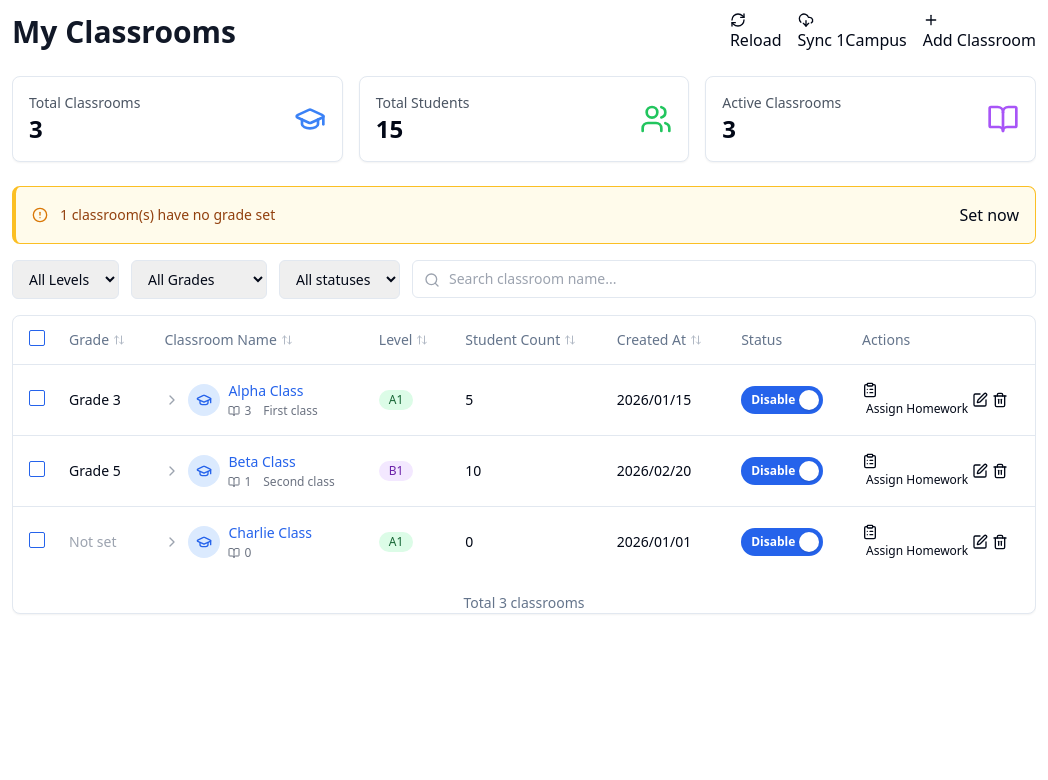
Test: TeacherClassrooms › Classroom Grade (#1097) › narrows the list with the grade filter
The image size is (1048, 780).
Select "Grade 3" in the dropdown named "Filter by grade" at (199, 280), box x1=131 y1=260 x2=267 y2=299
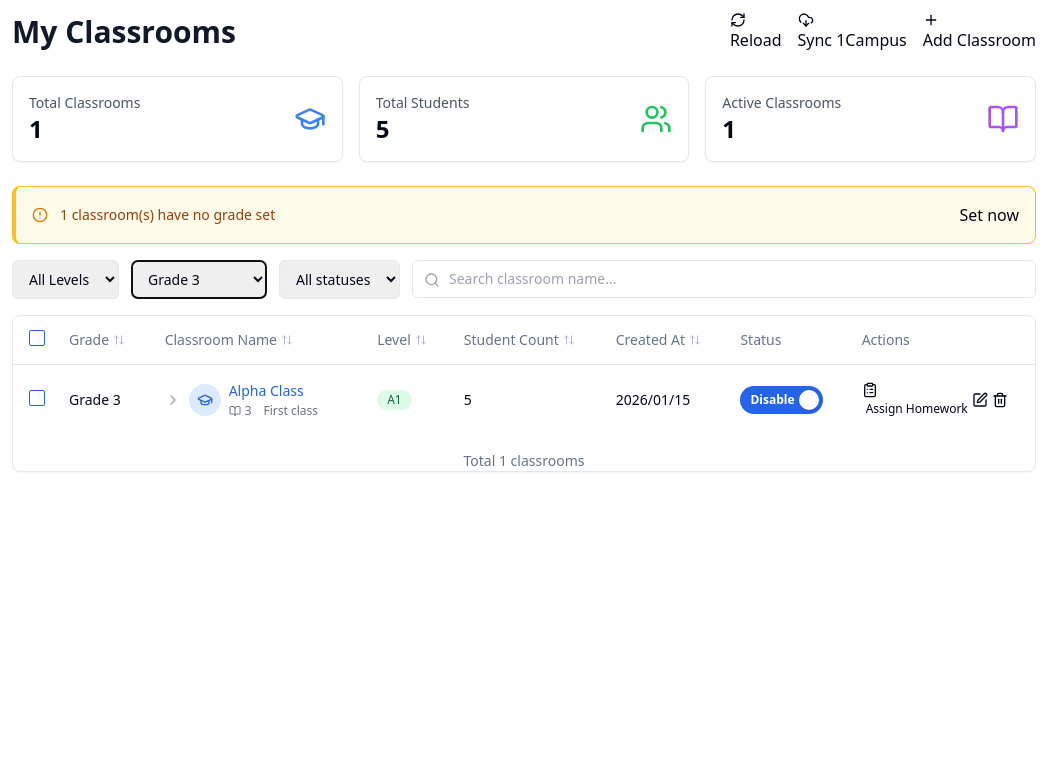
Expected: the link "Beta Class" is gone
Expected: the link "Charlie Class" is gone
Select "Grade not set" in the dropdown named "Filter by grade" at (199, 280), box x1=131 y1=260 x2=267 y2=299
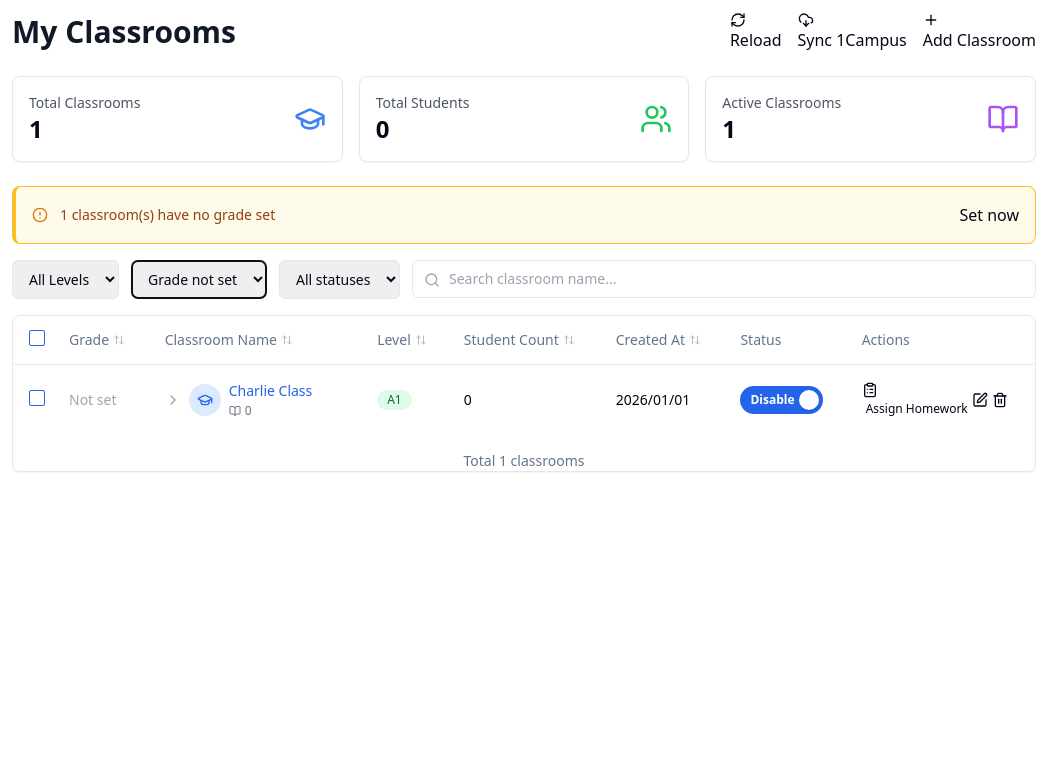
Expected: the link "Alpha Class" is gone
